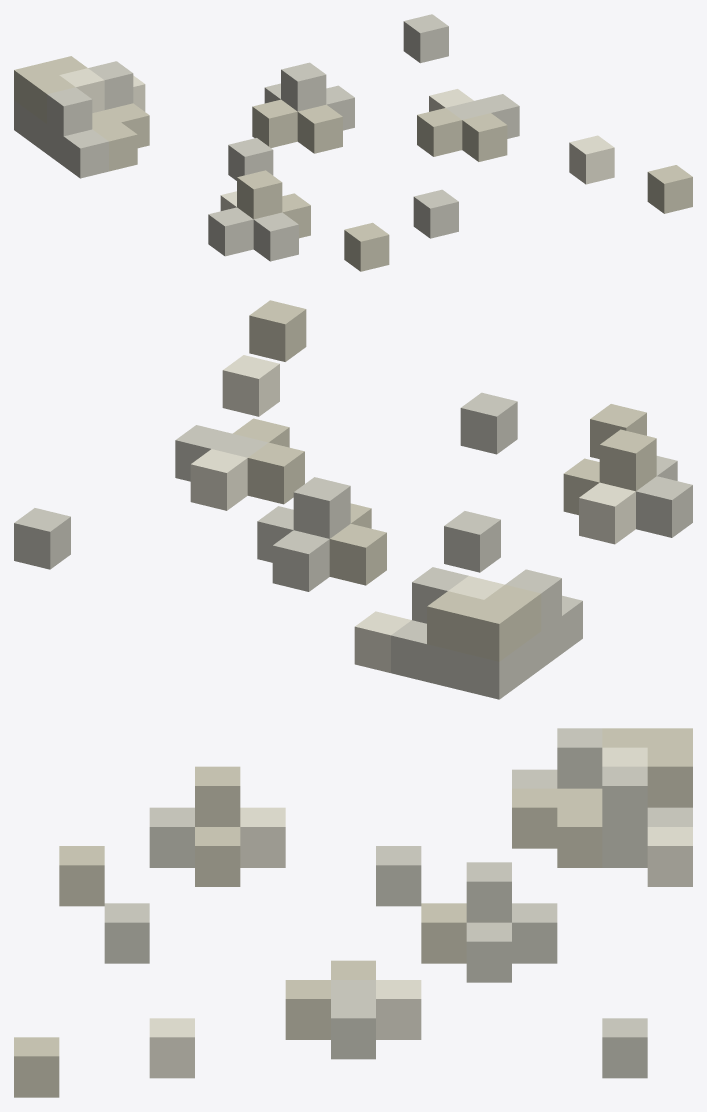
File: Tissue.obj
3 renders of one model, top to bottom at view 1: azimuth 30°, elevation 25°; view 2: azimuth 150°, elevation 25°; view 3: azimuth 270°, elevation 25°, orthographic. The views are drawn at different scales.
Bounding box in the file's own units: 1.5 × 0.2 × 1.5.
Materials: 1 (1 with a texture image).
